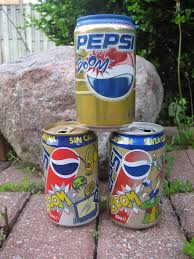can: (63, 6, 135, 132), (38, 115, 102, 239), (115, 126, 163, 231)
